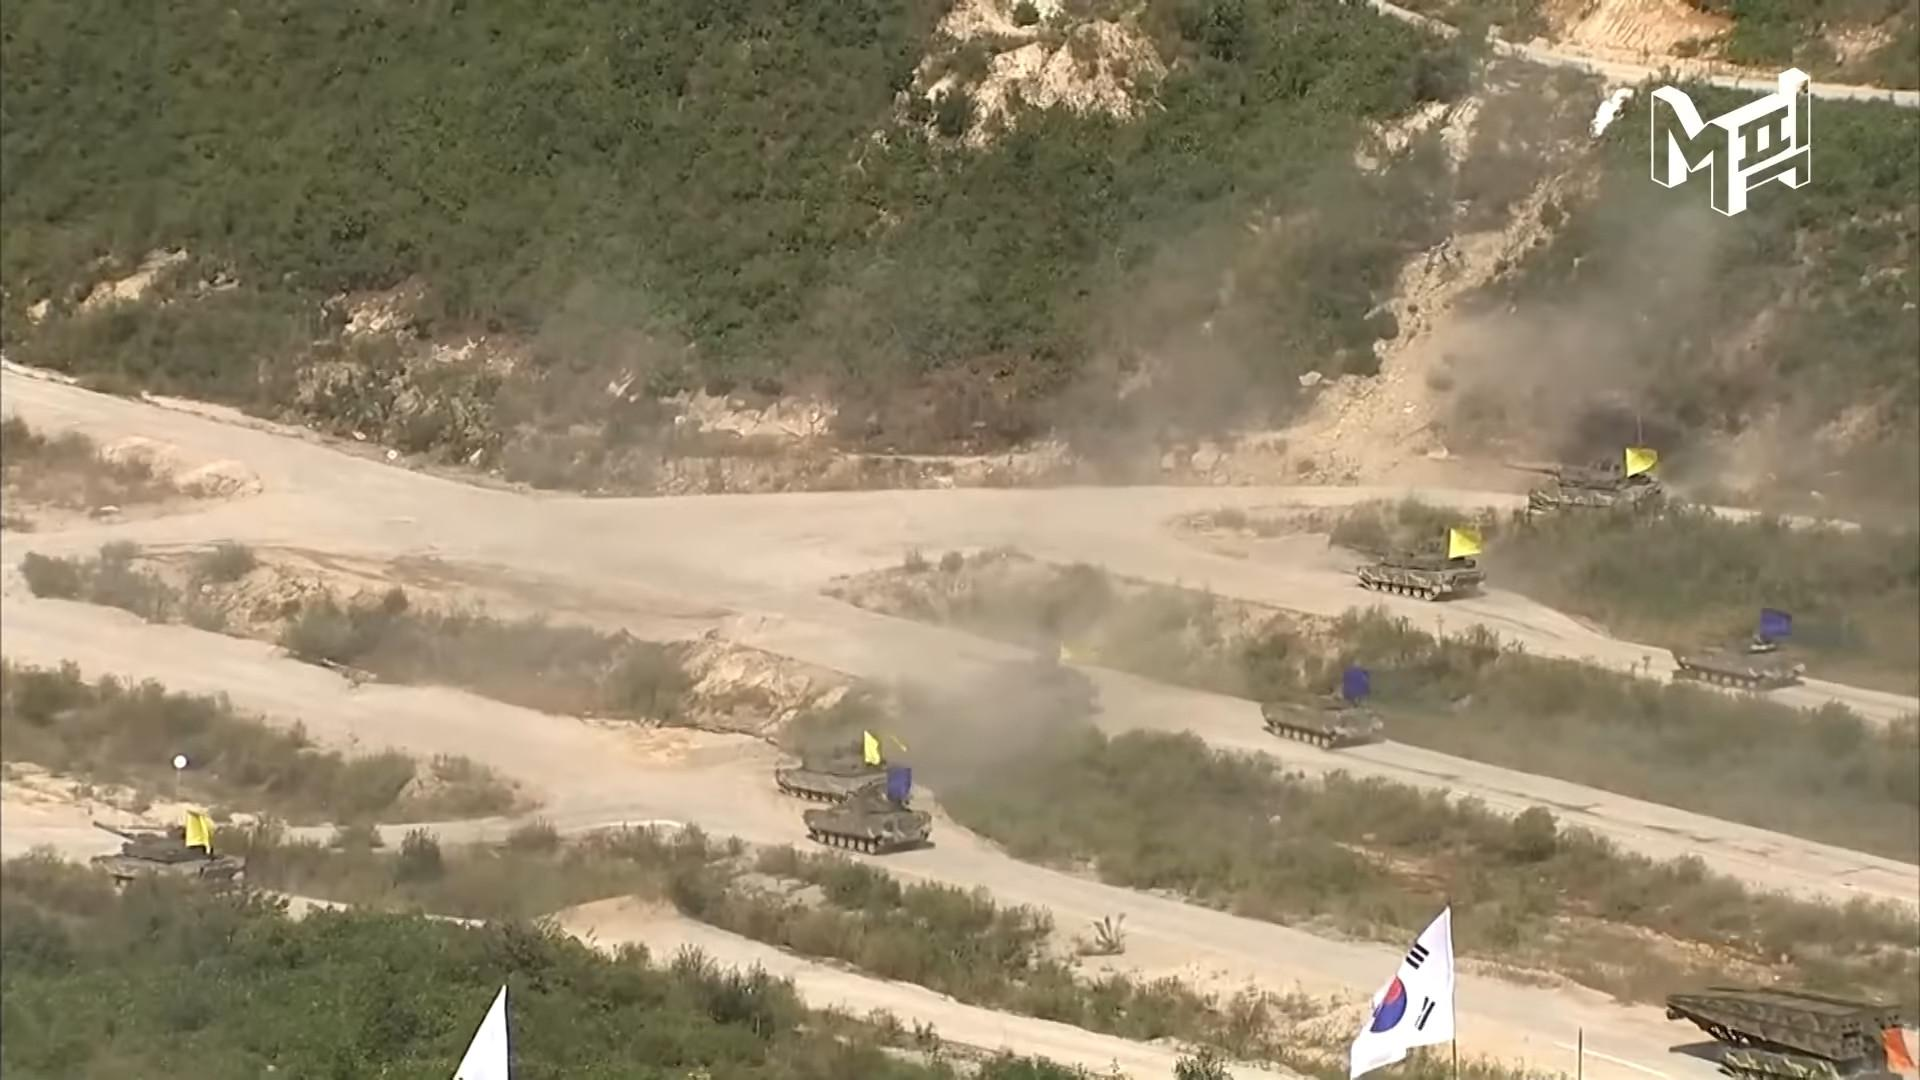tank: (88, 822, 247, 893), (1505, 459, 1665, 522), (1345, 537, 1486, 601), (803, 783, 931, 855), (775, 738, 890, 806), (1679, 633, 1807, 690), (1263, 694, 1385, 750)
